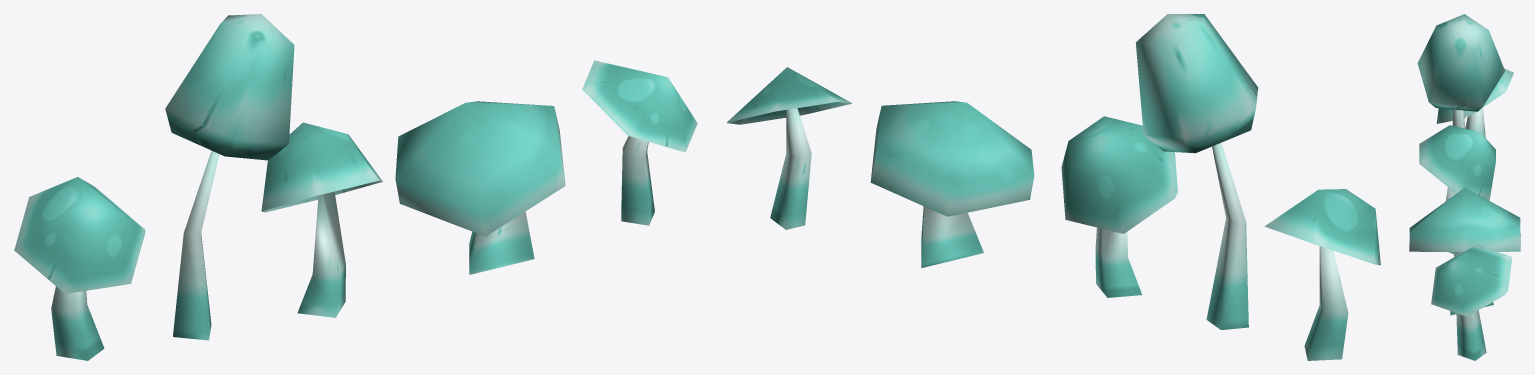
File: yingguangmogu.FBX
3 views of the same model, side by side, from view 1: azimuth 30°, elevation 25°; view 2: azimuth 150°, elevation 25°; view 3: azimuth 270°, elevation 25° (orthographic). The views are drawn at different scales.
Parts seen in each view (by area): view 1: yingguangmogu02, yingguangmogu04, yingguangmogu05, yingguangmogu03, yingguangmogu01; view 2: yingguangmogu04, yingguangmogu02, yingguangmogu03, yingguangmogu05, yingguangmogu01; view 3: yingguangmogu04, yingguangmogu01, yingguangmogu02, yingguangmogu03, yingguangmogu05.
Part boxes in pixels (left/top/right/bottom): yingguangmogu02: left=395, top=101, right=565, bottom=274; yingguangmogu04: left=165, top=14, right=294, bottom=340; yingguangmogu05: left=14, top=177, right=145, bottom=360; yingguangmogu03: left=261, top=122, right=382, bottom=317; yingguangmogu01: left=582, top=60, right=697, bottom=225; yingguangmogu04: left=1135, top=14, right=1258, bottom=329; yingguangmogu02: left=870, top=101, right=1034, bottom=268; yingguangmogu03: left=1061, top=116, right=1177, bottom=297; yingguangmogu05: left=1264, top=189, right=1380, bottom=360; yingguangmogu01: left=727, top=67, right=852, bottom=229; yingguangmogu04: left=1417, top=14, right=1504, bottom=128; yingguangmogu01: left=1431, top=244, right=1512, bottom=360; yingguangmogu02: left=1409, top=187, right=1520, bottom=315; yingguangmogu03: left=1419, top=125, right=1495, bottom=254; yingguangmogu05: left=1436, top=68, right=1513, bottom=137.
Bounding box in the file's own units: 298 × 63.65 × 129.
